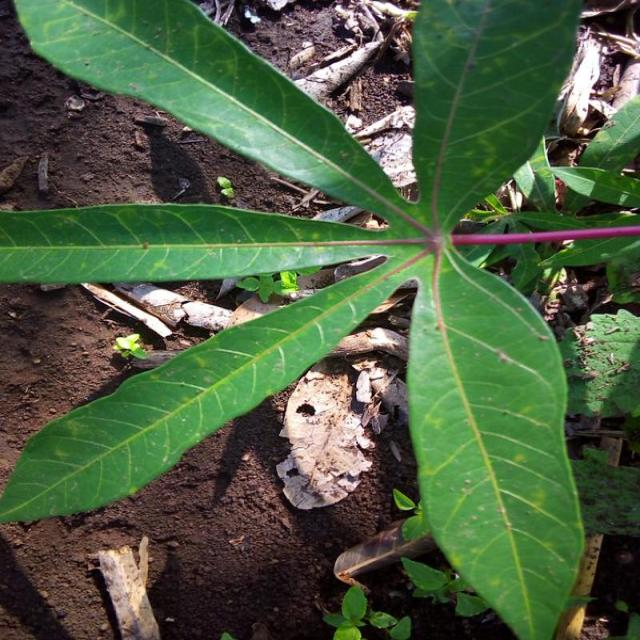cassava leaf: (1, 0, 594, 638), (404, 240, 586, 638)
